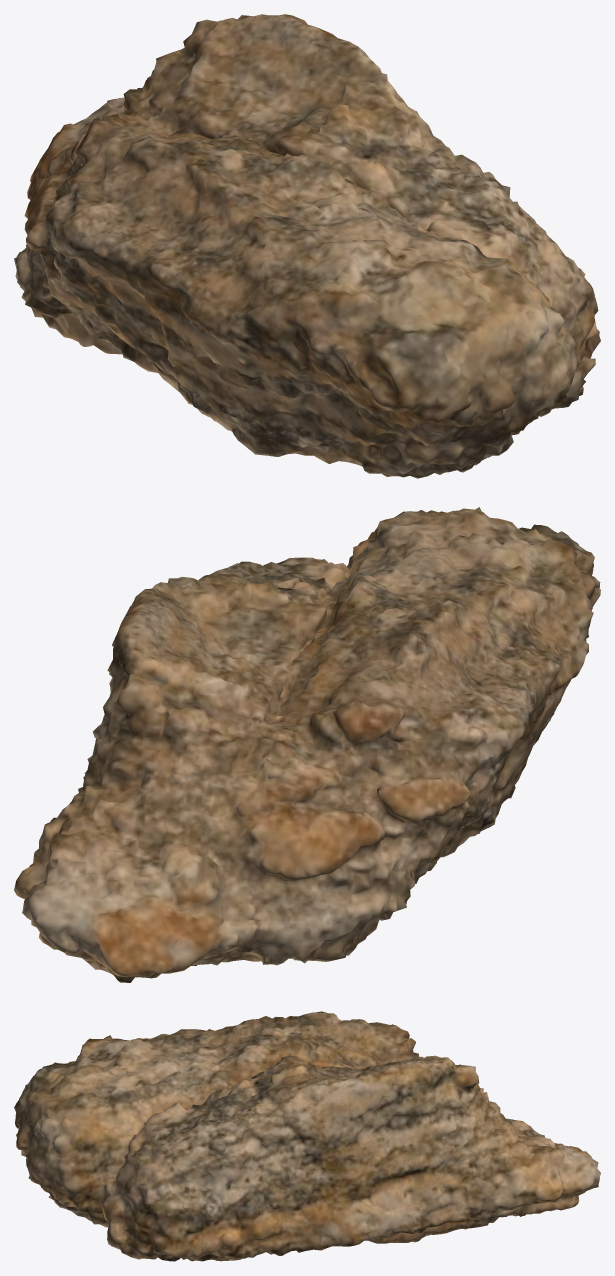
Rendered from namaqualand_boulders_01_a.gltf.
3 views of the same model, one above another, from view 1: azimuth 30°, elevation 25°; view 2: azimuth 150°, elevation 25°; view 3: azimuth 270°, elevation 25° (orthographic). The views are drawn at different scales.
Visible parts, largest first — view 1: namaqualand_rocks_01_b; view 2: namaqualand_rocks_01_b; view 3: namaqualand_rocks_01_b.
Boxes of the visible parts, x1=… form: namaqualand_rocks_01_b: x1=14, y1=14, x2=600, y2=478; namaqualand_rocks_01_b: x1=14, y1=507, x2=600, y2=982; namaqualand_rocks_01_b: x1=14, y1=1011, x2=600, y2=1261.
Size of the model in its own units: 0.3394 by 0.2089 by 0.5866.
Materials: 1 (1 with a texture image).
